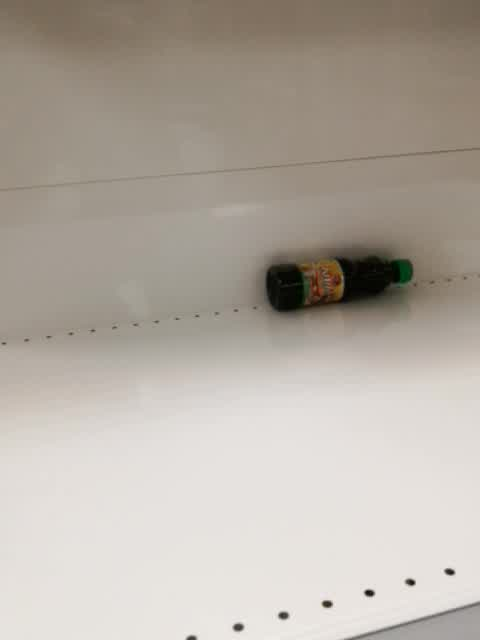cookingoil: (264, 255, 416, 312)
